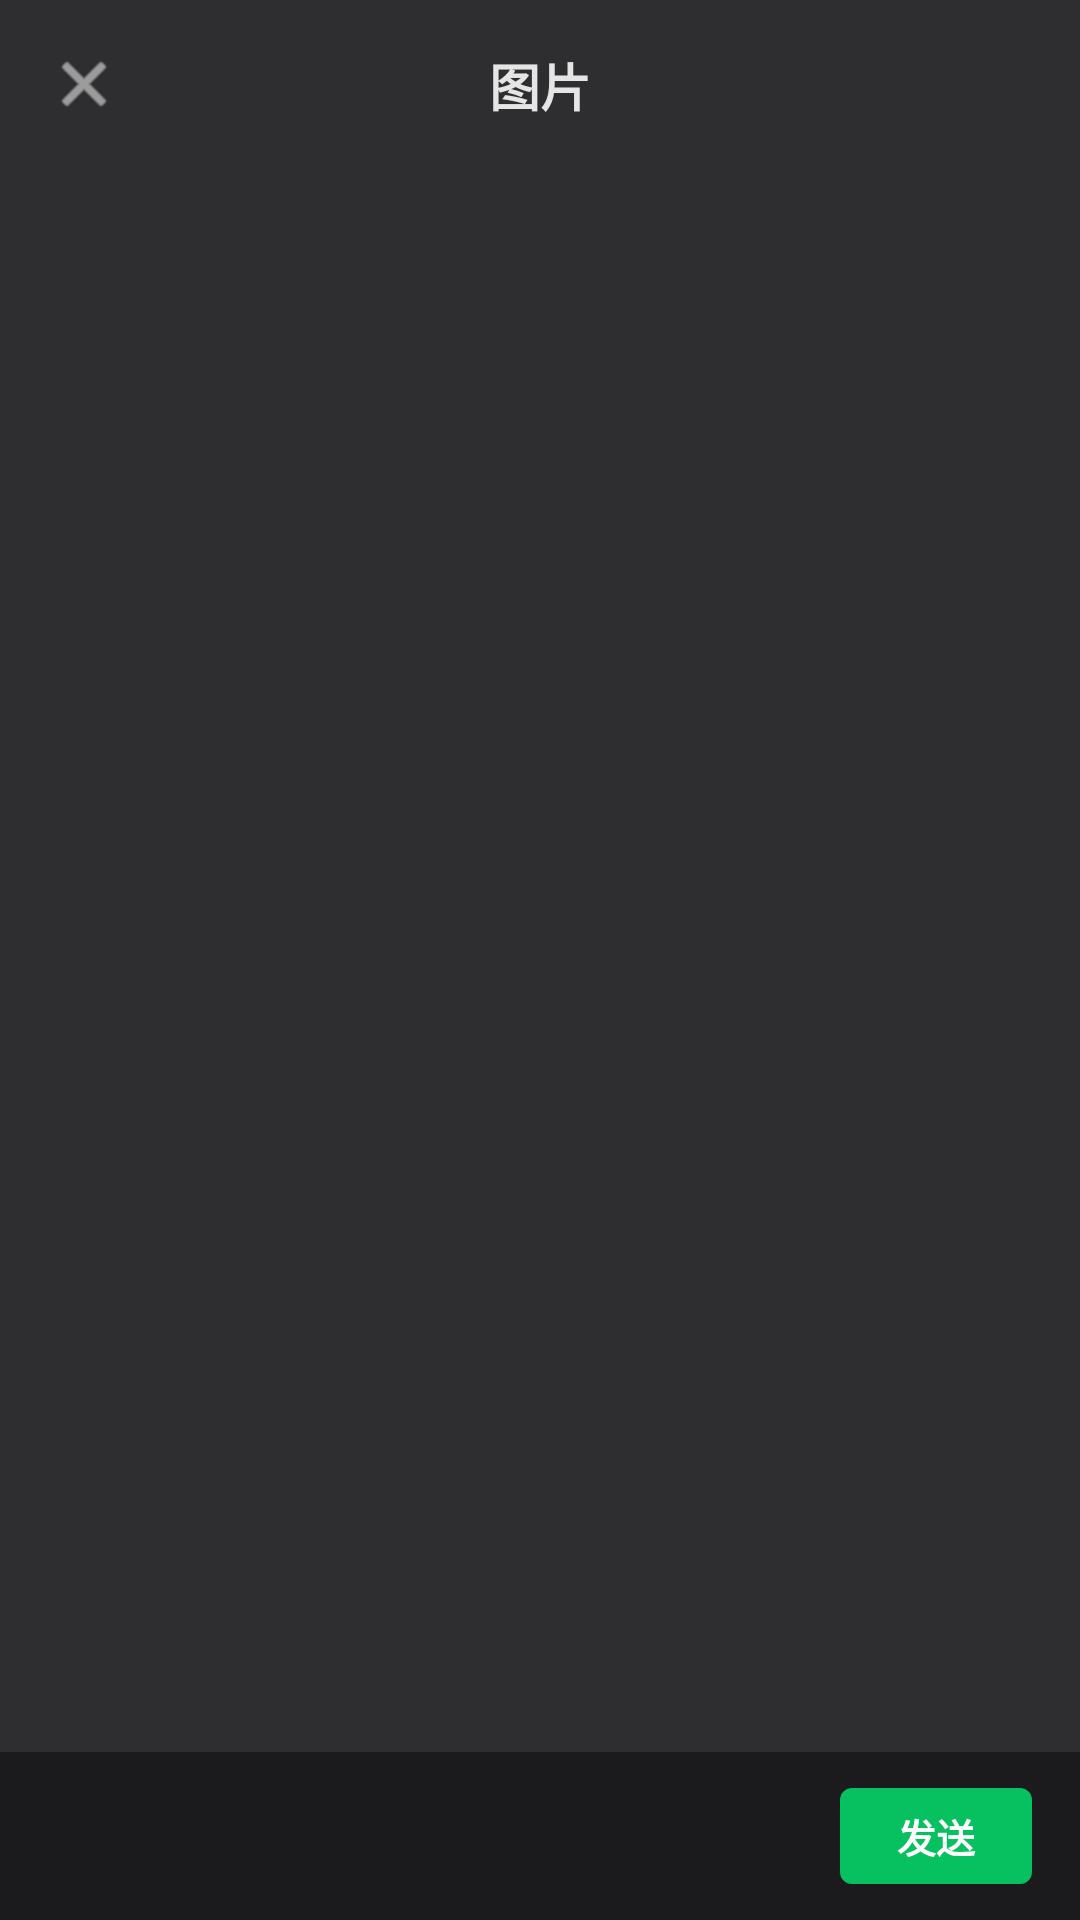

Screen size 1080w x 1920h. Icon name, then its box in pixels as (x1=x1, y1=y1, x2=x2, y2=y2):
close clear cancel: (x1=62, y1=62, x2=106, y2=106)
